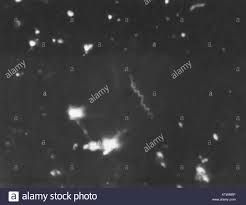sphyillis: (127, 75, 157, 120), (188, 1, 206, 13)
